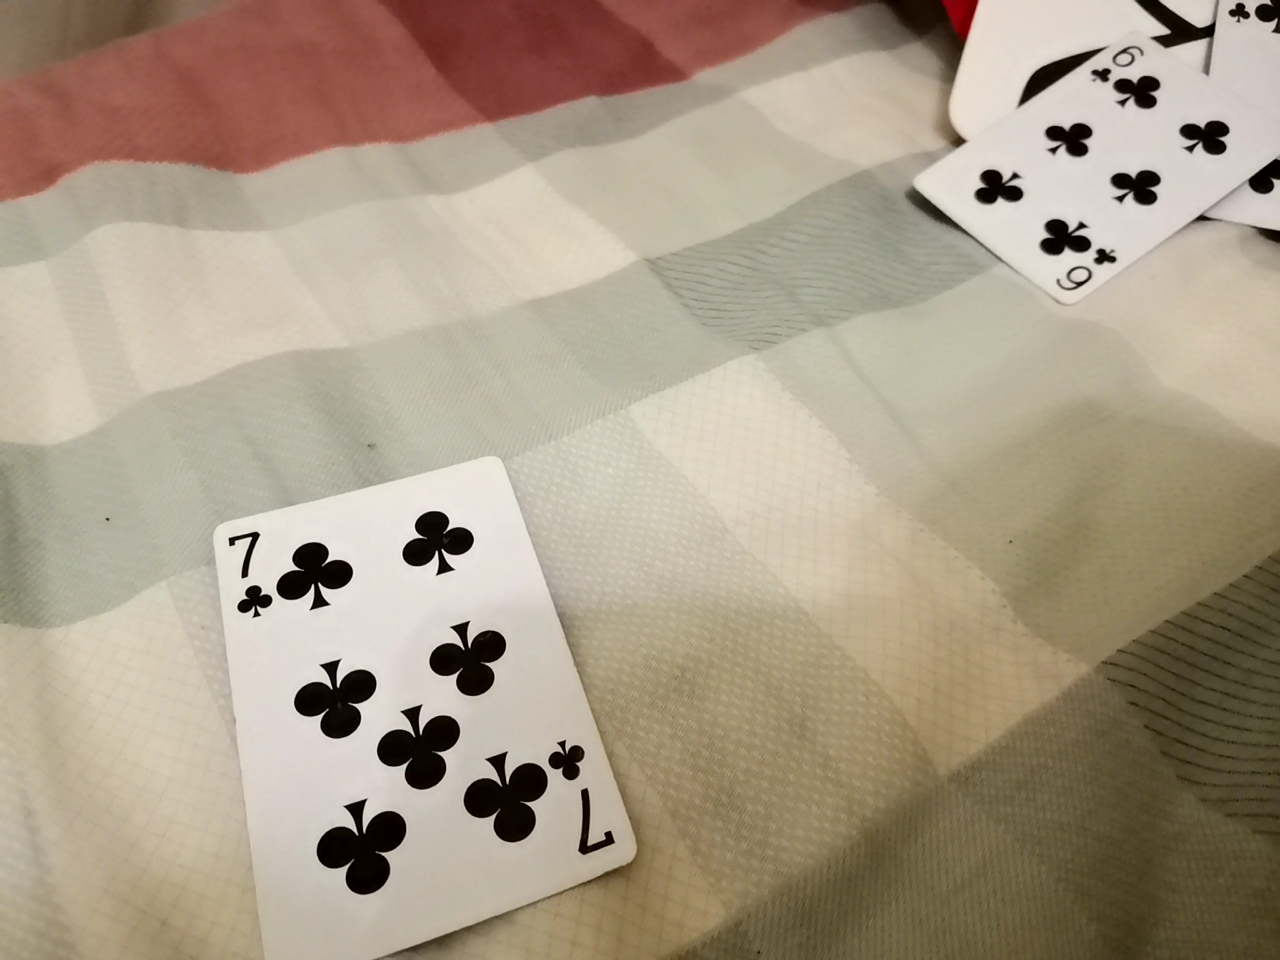mh 7: (215, 464, 609, 946)
